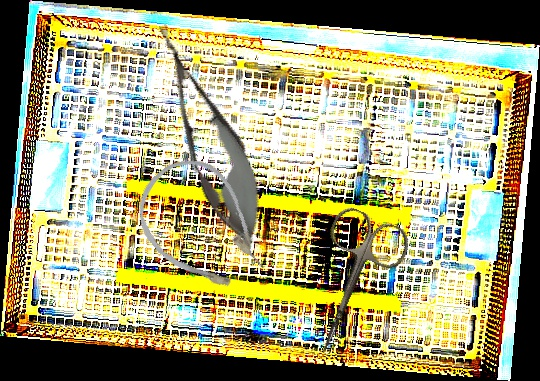Cannula: (119, 142, 285, 314)
Iris Scissors: (284, 203, 416, 368)
Micro Scissor: (134, 13, 282, 254)
